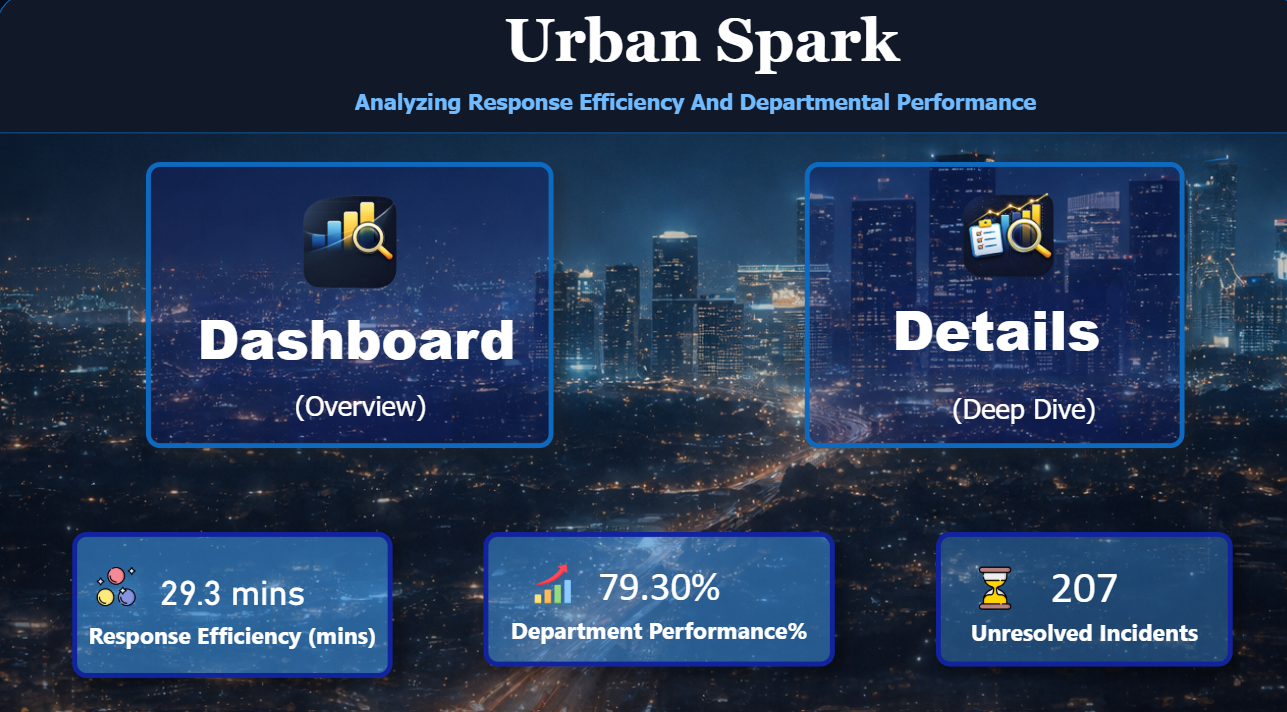

What the dashboard file says about the page in this screenshot:
{"tool":"powerbi","page":{"name":"Navigation","canvas":[1280,720],"ordinal":0},"visuals":[{"type":"shape","box":[0,0,1280.3,139],"z":0},{"type":"textbox","box":[466.3,9.8,452.8,79.8],"z":1000},{"type":"actionButton","title":"Dashboard","box":[147.2,166.9,400,281],"z":2000},{"type":"textbox","box":[192.6,296.9,344.8,88.3],"z":3000},{"type":"actionButton","title":"Dashboard","box":[793.9,166.9,373,281],"z":4000},{"type":"textbox","box":[874.9,288.3,239.3,88.3],"z":5000},{"type":"image","box":[921.5,181.6,143.6,115.3],"z":7000},{"type":"image","box":[274.8,182.8,146,131.3],"z":8000},{"type":"textbox","box":[347.2,89.6,874.9,66.3],"z":9000},{"type":"textbox","box":[288.3,385.3,159.5,54],"z":9001},{"type":"textbox","box":[933.7,387.7,166.9,51.5],"z":9002},{"type":"card","fields":{"Values":["Incidents_Raw.Avg Response Time (mins)"]},"box":[74.8,530.1,314.1,143.6],"z":9004},{"type":"image","box":[88.3,564.4,58.9,38],"z":9005},{"type":"card","fields":{"Values":["Incidents_Raw.Resolution_Rate %"]},"box":[478.9,529.7,344.4,131.7],"z":9006},{"type":"image","box":[514.6,559.9,64.5,43.9],"z":9007},{"type":"card","fields":{"Values":["Incidents_Raw.Unresolved Incidents"]},"box":[922.1,529.7,290.9,131.7],"z":9008},{"type":"image","box":[959.2,562.6,42.5,43.9],"z":9009}]}

Visuals, with their boxes in screenshot pixels (x1, y1, x2, y2), scaled from the page's 1280x720 canvas onto the 1287x712 screenshot:
shape: 0, 0, 1286, 137
textbox: 469, 10, 924, 89
"Dashboard" actionButton: 148, 165, 550, 443
textbox: 194, 294, 540, 381
"Dashboard" actionButton: 798, 165, 1173, 443
textbox: 880, 285, 1120, 372
image: 927, 180, 1071, 294
image: 276, 181, 423, 311
textbox: 349, 89, 1229, 154
textbox: 290, 381, 450, 434
textbox: 939, 383, 1107, 434
card - Incidents_Raw.Avg Response Time (mins): 75, 524, 391, 666
image: 89, 558, 148, 596
card - Incidents_Raw.Resolution_Rate %: 482, 524, 828, 654
image: 517, 554, 582, 597
card - Incidents_Raw.Unresolved Incidents: 927, 524, 1220, 654
image: 964, 556, 1007, 600
